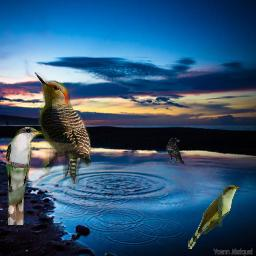Crow: (166, 138, 185, 165)
Cuckoo: (5, 126, 45, 225), (188, 185, 240, 249)
Woodpecker: (34, 72, 91, 184)
